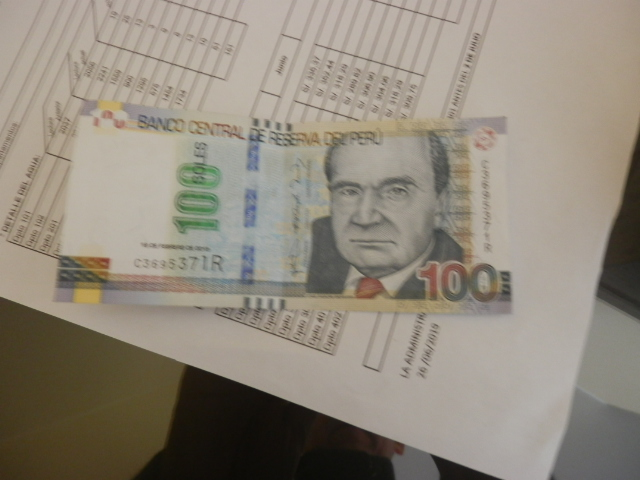B100: (59, 98, 516, 317)
